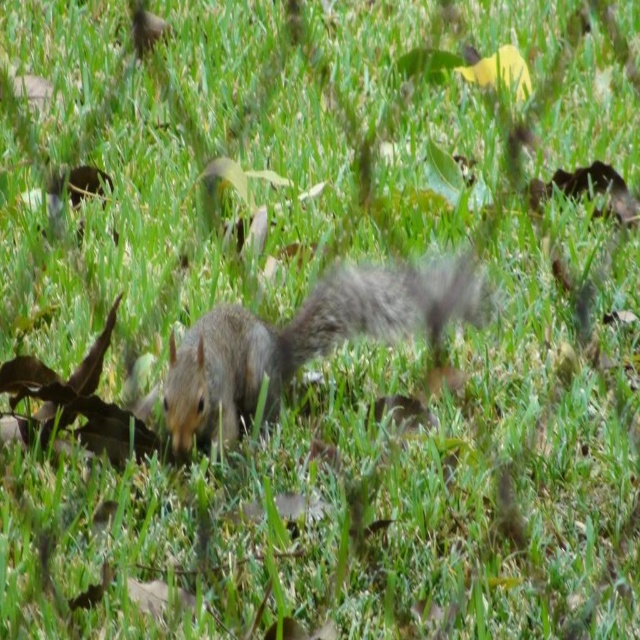Squirrel: (162, 246, 493, 468)
